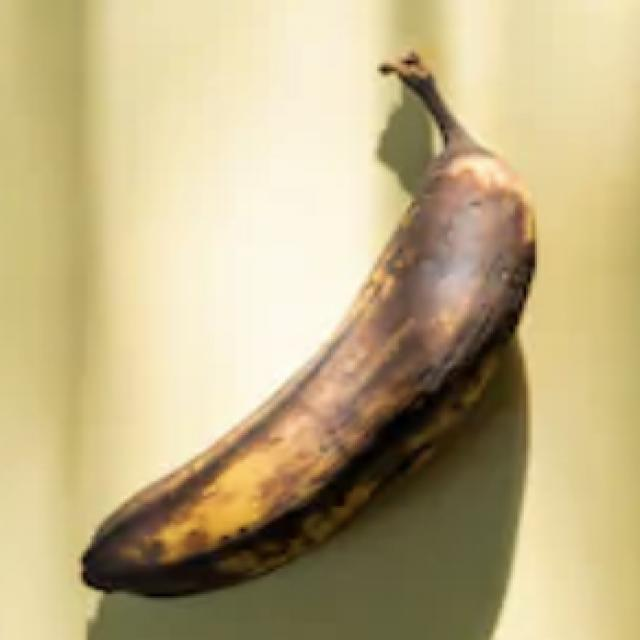rotten-banana: (83, 73, 534, 588)
